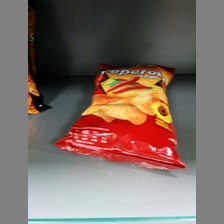chips: (82, 62, 186, 172)
